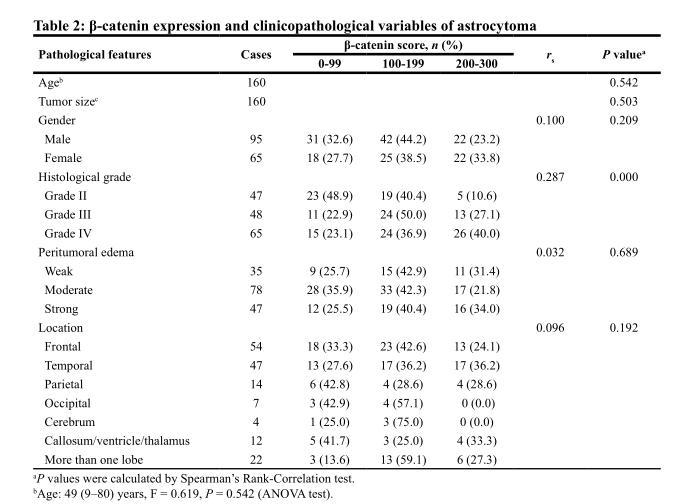table: (37, 36, 644, 465)
table column: (37, 36, 214, 465), (439, 36, 517, 465), (288, 36, 365, 465), (214, 36, 288, 465), (365, 36, 439, 465), (517, 36, 582, 465), (582, 36, 644, 465)
table column header: (37, 36, 644, 71)
table row: (37, 71, 644, 90), (37, 90, 644, 109), (37, 109, 644, 128), (37, 128, 644, 147), (37, 147, 644, 166), (37, 166, 644, 185), (37, 203, 644, 222), (37, 222, 644, 241), (37, 241, 644, 260), (37, 260, 644, 279), (37, 279, 644, 298), (37, 298, 644, 317), (37, 335, 644, 354), (37, 354, 644, 373), (37, 373, 644, 392), (37, 392, 644, 411), (37, 411, 644, 430), (37, 430, 644, 449), (37, 53, 644, 71), (37, 185, 644, 203), (37, 317, 644, 335), (37, 36, 644, 53), (37, 449, 644, 465)
table spanning cell: (37, 36, 214, 71), (288, 36, 517, 53), (214, 36, 288, 71), (517, 36, 582, 71), (582, 36, 644, 71)
